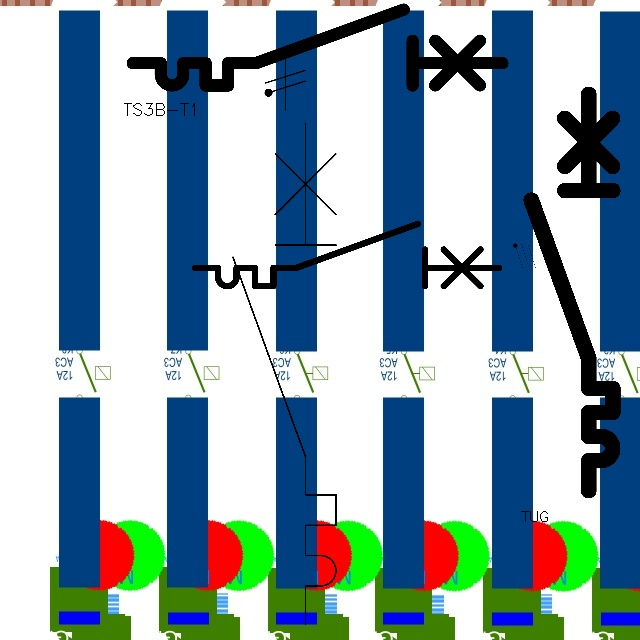interruptor_termomagnetico: (220, 110, 349, 637), (521, 84, 623, 501), (123, 0, 512, 95), (187, 216, 507, 294)
